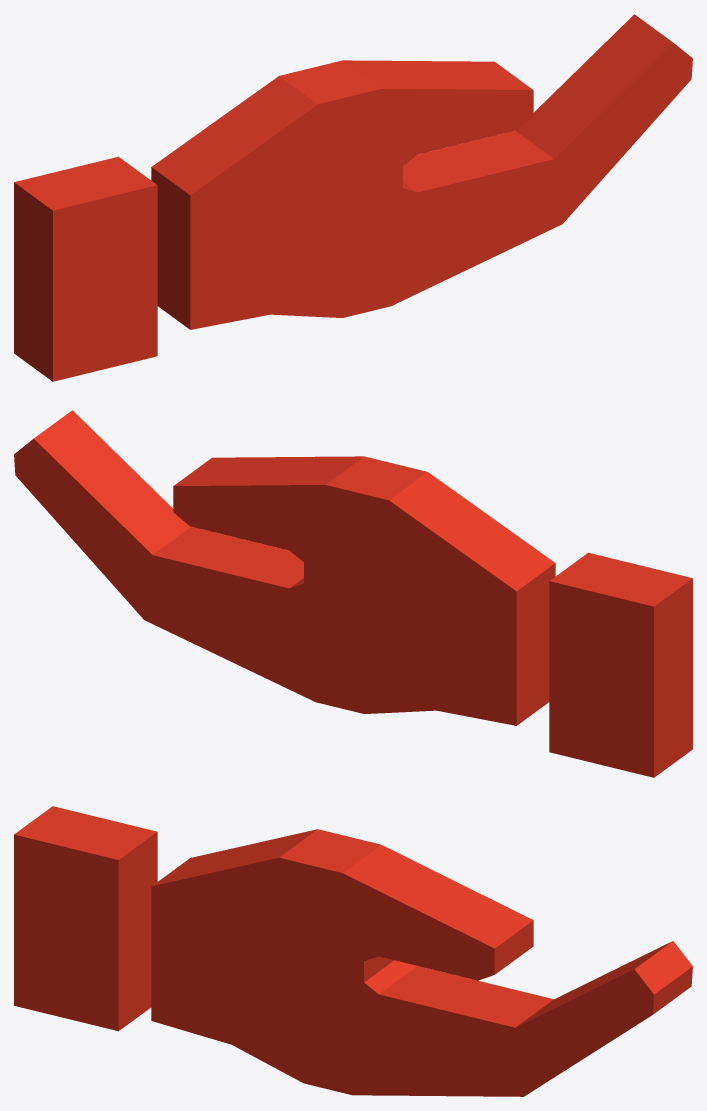
Rendered from Icon_Hand.fbx.
3 views of the same model, one above another, from view 1: azimuth 30°, elevation 25°; view 2: azimuth 150°, elevation 25°; view 3: azimuth 330°, elevation 25° (orthographic).
Parts seen in each view (by area): view 1: Icon_Hand; view 2: Icon_Hand; view 3: Icon_Hand.
Part boxes in pixels (x1,y1,x2,y2): Icon_Hand: (14,14,692,381); Icon_Hand: (14,410,692,777); Icon_Hand: (14,806,692,1096).
Bounding box in the file's own units: 115 × 37.64 × 12.06.
